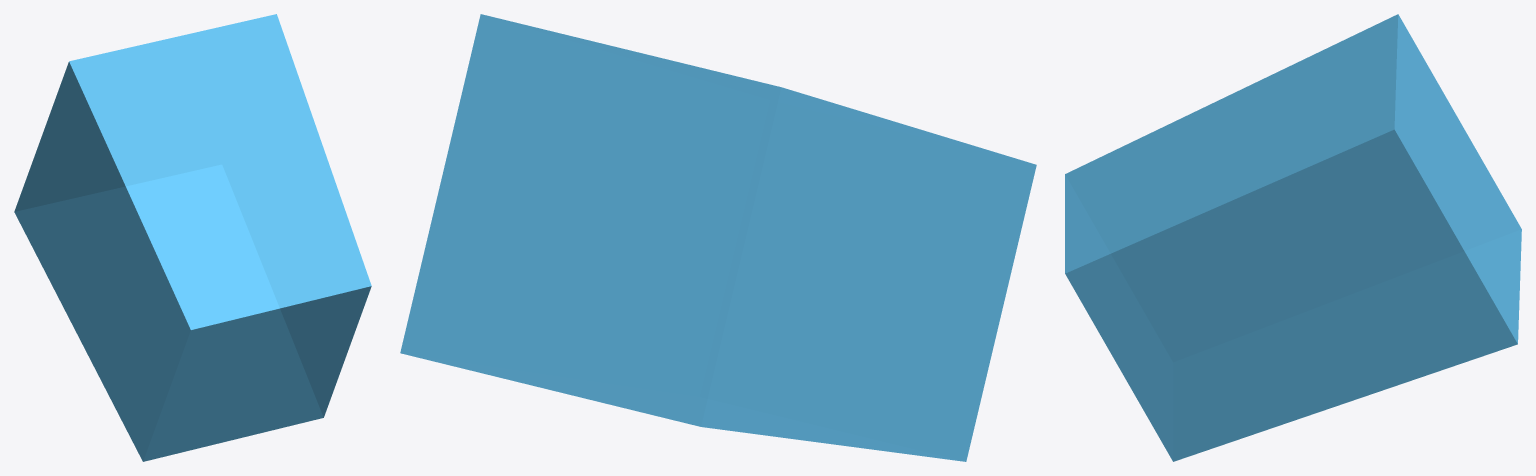
The model's file is Event_421127236_HBrechit_18.fbx.
3 views of the same model, side by side, from view 1: azimuth 30°, elevation 25°; view 2: azimuth 150°, elevation 25°; view 3: azimuth 270°, elevation 25° (orthographic). The views are drawn at different scales.
Visible parts, largest first — view 1: Model; view 2: Model; view 3: Model.
Boxes of the visible parts, x1,y1,x2,y2 form: Model: [14, 14, 371, 461]; Model: [400, 14, 1036, 461]; Model: [1065, 14, 1521, 461].
Size of the model in its own units: 0.5182 by 0.6863 by 0.7836.
